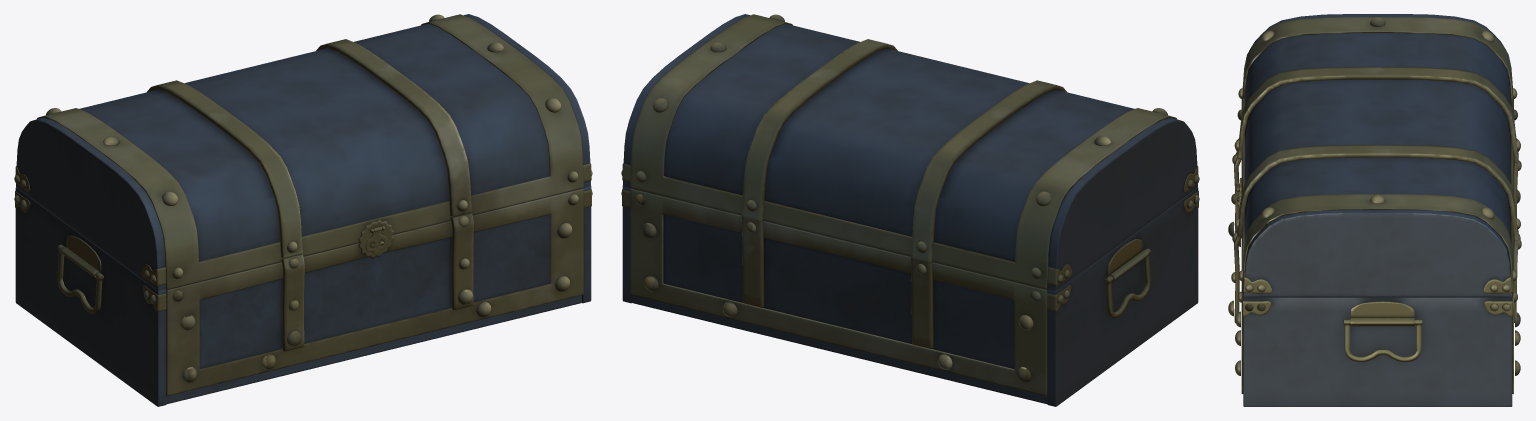
The model's file is Chest_ForUnity_Anim_v01.fbx.
The picture shows the model from 3 angles, left to right: view 1: azimuth 30°, elevation 25°; view 2: azimuth 150°, elevation 25°; view 3: azimuth 270°, elevation 25°; orthographic projection. The views are drawn at different scales.
Parts seen in each view (by area): view 1: polySurface79, polySurface80, polySurface5, polySurface8, polySurface81, polySurface83, polySurface90, polySurface92, polySurface4, polySurface85, polySurface87, polySurface84 (+4 smaller); view 2: polySurface79, polySurface3, polySurface5, polySurface9, polySurface81, polySurface83, polySurface90, polySurface92, polySurface4, polySurface91, polySurface89, polySurface84 (+3 smaller); view 3: polySurface79, polySurface82, polySurface84, polySurface5, polySurface90, polySurface92, polySurface13, polySurface12, polySurface83, polySurface85, polySurface23, polySurface18 (+4 smaller).
Boxes of the visible parts, x1,y1,x2,y2 form: polySurface79: [44, 23, 549, 288]; polySurface80: [166, 188, 582, 395]; polySurface5: [37, 14, 583, 289]; polySurface8: [166, 188, 583, 396]; polySurface81: [15, 187, 166, 406]; polySurface83: [16, 117, 165, 290]; polySurface90: [316, 39, 471, 216]; polySurface92: [147, 80, 302, 257]; polySurface4: [166, 295, 581, 404]; polySurface85: [450, 212, 473, 310]; polySurface87: [281, 254, 304, 351]; polySurface84: [464, 14, 590, 187]; polySurface79: [664, 23, 1169, 288]; polySurface3: [631, 188, 1047, 395]; polySurface5: [630, 14, 1176, 289]; polySurface9: [630, 188, 1047, 396]; polySurface81: [1047, 187, 1198, 406]; polySurface83: [1048, 117, 1197, 290]; polySurface90: [741, 39, 897, 221]; polySurface92: [911, 80, 1066, 263]; polySurface4: [632, 295, 1047, 404]; polySurface91: [911, 258, 933, 349]; polySurface89: [741, 217, 764, 307]; polySurface84: [623, 14, 749, 187]; polySurface79: [1244, 33, 1510, 269]; polySurface82: [1243, 294, 1512, 406]; polySurface84: [1243, 209, 1512, 297]; polySurface5: [1241, 17, 1513, 293]; polySurface90: [1238, 145, 1518, 240]; polySurface92: [1238, 67, 1518, 162]; polySurface13: [1350, 301, 1414, 326]; polySurface12: [1343, 319, 1422, 362]; polySurface83: [1249, 14, 1506, 50]; polySurface85: [1234, 229, 1241, 322]; polySurface23: [1483, 273, 1512, 293]; polySurface18: [1242, 297, 1270, 316].
Size of the model in its own units: 33.1 by 14.96 by 19.87.
